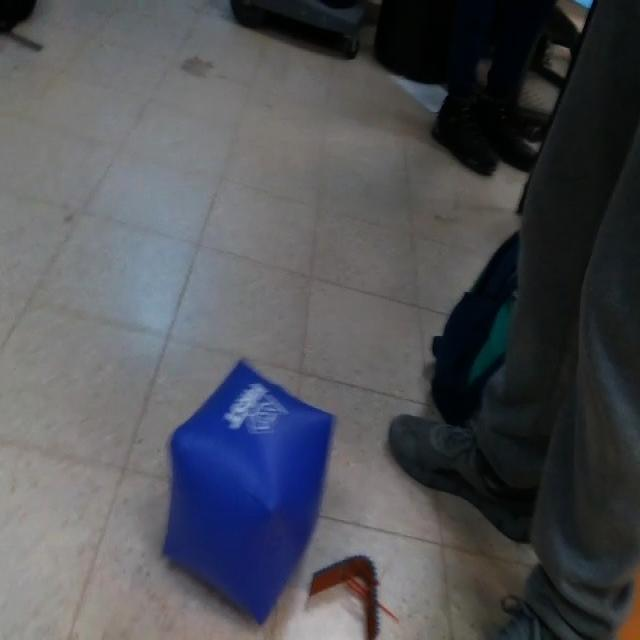cube: (162, 356, 336, 624)
